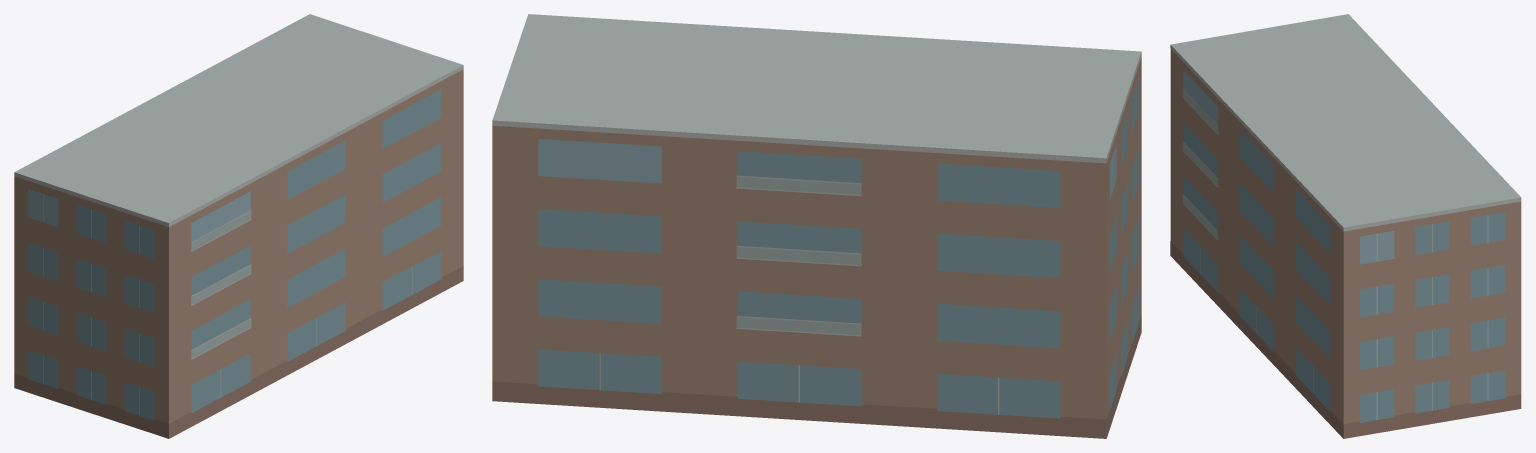
File: survey-upis-32862110.glb
3 views of the same model, side by side, from view 1: azimuth 30°, elevation 25°; view 2: azimuth 150°, elevation 25°; view 3: azimuth 270°, elevation 25° (orthographic). The views are drawn at different scales.
Parts seen in each view (by area): view 1: survey-upis-32862110.tmp; view 2: survey-upis-32862110.tmp; view 3: survey-upis-32862110.tmp.
Part boxes in pixels (box(x1,y1,x2,y2)): survey-upis-32862110.tmp: box(14, 14, 463, 438); survey-upis-32862110.tmp: box(492, 14, 1141, 438); survey-upis-32862110.tmp: box(1170, 14, 1521, 438).
Bounding box in the file's own units: 28.42 × 13.1 × 19.73.
